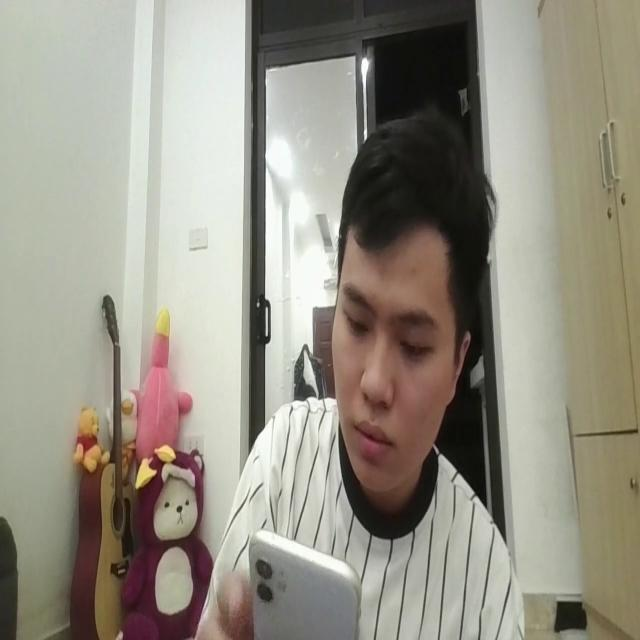phone: (243, 522, 363, 640)
student: (202, 101, 524, 640)
